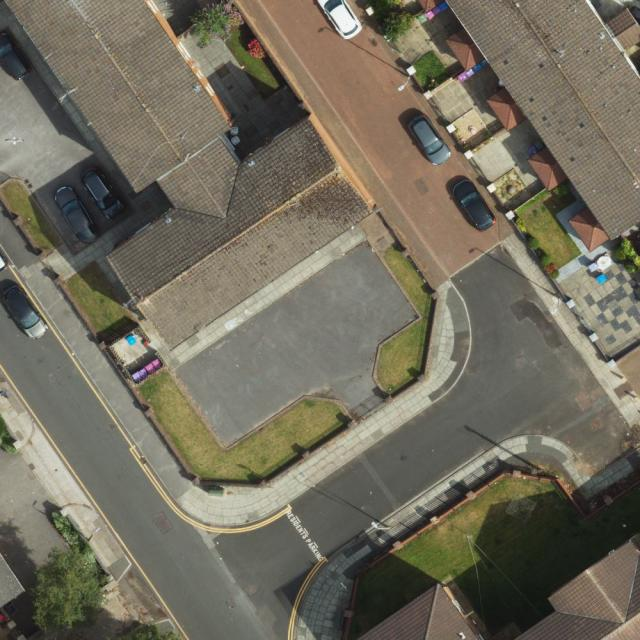roof: (5, 0, 375, 350), (419, 1, 640, 252), (515, 532, 639, 640), (357, 582, 479, 640)
